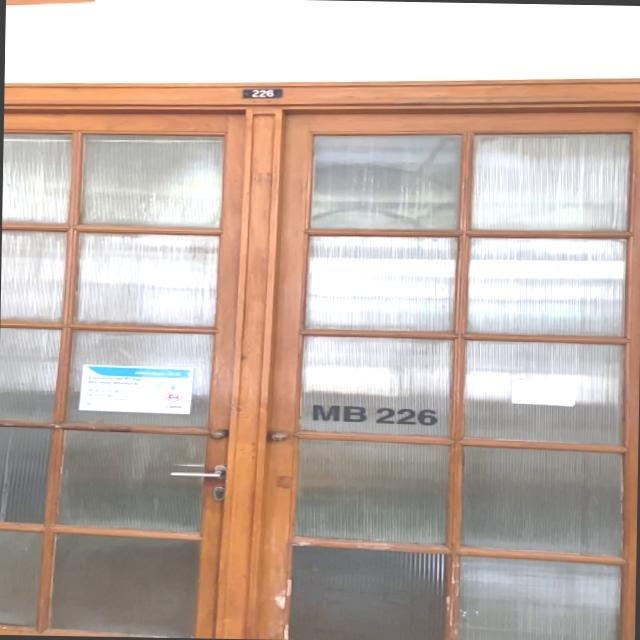room226: (234, 86, 286, 100)
room226Window: (307, 400, 441, 428)
